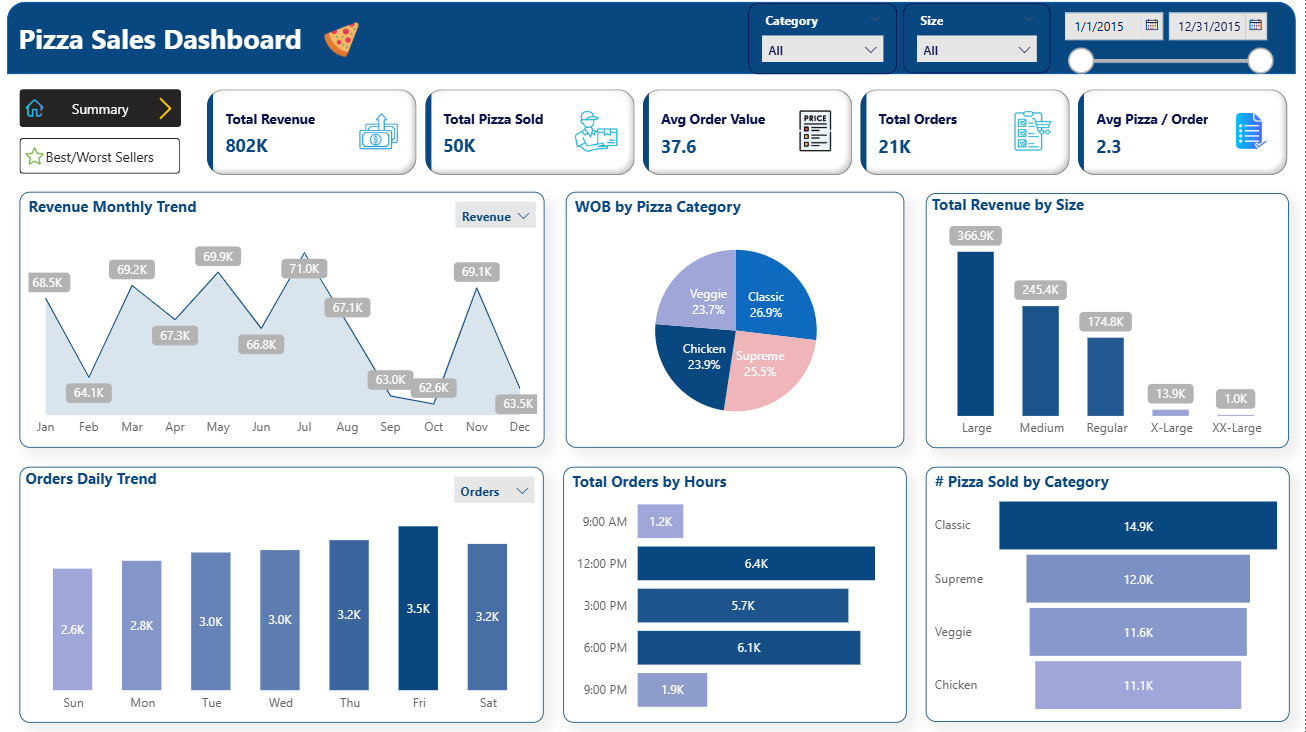

The page's visual inventory and layout, read from the dashboard file:
{"tool":"powerbi","page":{"name":"Summary","canvas":[1280,720],"ordinal":0},"visuals":[{"type":"areaChart","fields":{"Y":["Key Measures.Total Revenue"],"Category":["pizza_sales.Month Name"]},"box":[22,190,513.6,250],"z":0},{"type":"shape","box":[9.8,3.7,1260.7,70.9],"z":1000},{"type":"image","box":[305.7,18.3,62.4,45.2],"z":2000},{"type":"columnChart","fields":{"Y":["Key Measures.Total Orders"],"Category":["pizza_sales.Day Name"]},"box":[22,458,512.5,250],"z":3000},{"type":"pieChart","title":"WOB by Pizza Category","fields":{"Category":["pizza_sales.pizza_category"],"Y":["pizza_sales.Total Revenue"]},"box":[556.1,190,331.4,250],"z":4000},{"type":"funnel","title":"# Pizza Sold by Category","fields":{"Category":["pizza_sales.pizza_category"],"Y":["pizza_sales.Total Pizza Sold"]},"box":[908.6,458.6,355.8,249.5],"z":5000},{"type":"cardVisual","fields":{"Data":["pizza_sales.Total Revenue","pizza_sales.Total Pizza Sold","pizza_sales.Avg Order value","pizza_sales.Total Orders","pizza_sales.Avg Pizza Per Order"]},"box":[200.5,84.4,1070,94.2],"z":6000},{"type":"group","id":"g1","title":"Group 1","box":[22,89.5,159,37.9],"z":7000},{"type":"group","id":"g2","title":"Group 2","box":[22,136.7,157.7,35.5],"z":8000},{"type":"clusteredBarChart","fields":{"Category":["pizza_sales.order_time (bins)"],"Y":["Key Measures.Total Orders"]},"box":[553.7,458,336.3,250],"z":9000},{"type":"slicer","fields":{"Values":["pizza_sales.order_date"]},"box":[1032.1,3.7,225,73],"z":10000},{"type":"slicer","fields":{"Values":["pizza_sales.pizza_category"]},"box":[734.9,4.9,145.5,69.7],"z":11000},{"type":"slicer","fields":{"Values":["pizza_sales.pizza_size"]},"box":[886.6,4.9,144.3,68.5],"z":12000},{"type":"columnChart","title":"Total Revenue by Size","fields":{"Category":["Pizza Sales.Pizza Size"],"Y":["Key Measures.Total Revenue"]},"box":[908.6,190.6,355.4,249.5],"z":13000},{"type":"slicer","fields":{"Values":["Totals.Totals"]},"box":[443.9,198.1,88,38],"z":14000},{"type":"slicer","fields":{"Values":["Daily Kpis.Daily Kpis"]},"box":[442.7,462.2,88,38],"z":15000},{"type":"pageNavigator","box":[22,89.7,159,37.7],"z":22000,"group":"g1"},{"type":"pageNavigator","box":[22,137,157.7,35.2],"z":23000,"group":"g2"},{"type":"image","box":[23.1,89.5,27.2,37.5],"z":24000,"group":"g1"},{"type":"image","box":[23.3,136.7,27.1,35.4],"z":25000,"group":"g2"},{"type":"image","box":[149.1,89.5,31.2,37.5],"z":26000,"group":"g1"}]}

Visuals, with their boxes in screenshot pixels (x1, y1, x2, y2), scaled from the page's 1280x720 canvas onto the 1306x732 screenshot:
areaChart - Key Measures.Total Revenue x pizza_sales.Month Name: {"x1": 22, "y1": 193, "x2": 546, "y2": 447}
shape: {"x1": 10, "y1": 4, "x2": 1296, "y2": 76}
image: {"x1": 312, "y1": 19, "x2": 376, "y2": 65}
columnChart - Key Measures.Total Orders x pizza_sales.Day Name: {"x1": 22, "y1": 466, "x2": 545, "y2": 720}
"WOB by Pizza Category" pieChart: {"x1": 567, "y1": 193, "x2": 906, "y2": 447}
"# Pizza Sold by Category" funnel: {"x1": 927, "y1": 466, "x2": 1290, "y2": 720}
cardVisual - pizza_sales.Total Revenue x pizza_sales.Total Pizza Sold: {"x1": 205, "y1": 86, "x2": 1296, "y2": 182}
"Group 1" group: {"x1": 22, "y1": 91, "x2": 185, "y2": 130}
"Group 2" group: {"x1": 22, "y1": 139, "x2": 183, "y2": 175}
clusteredBarChart - pizza_sales.order_time (bins) x Key Measures.Total Orders: {"x1": 565, "y1": 466, "x2": 908, "y2": 720}
slicer - pizza_sales.order_date: {"x1": 1053, "y1": 4, "x2": 1283, "y2": 78}
slicer - pizza_sales.pizza_category: {"x1": 750, "y1": 5, "x2": 898, "y2": 76}
slicer - pizza_sales.pizza_size: {"x1": 905, "y1": 5, "x2": 1052, "y2": 75}
"Total Revenue by Size" columnChart: {"x1": 927, "y1": 194, "x2": 1290, "y2": 447}
slicer - Totals.Totals: {"x1": 453, "y1": 201, "x2": 543, "y2": 240}
slicer - Daily Kpis.Daily Kpis: {"x1": 452, "y1": 470, "x2": 541, "y2": 509}
pageNavigator: {"x1": 22, "y1": 91, "x2": 185, "y2": 130}
pageNavigator: {"x1": 22, "y1": 139, "x2": 183, "y2": 175}
image: {"x1": 24, "y1": 91, "x2": 51, "y2": 129}
image: {"x1": 24, "y1": 139, "x2": 51, "y2": 175}
image: {"x1": 152, "y1": 91, "x2": 184, "y2": 129}
